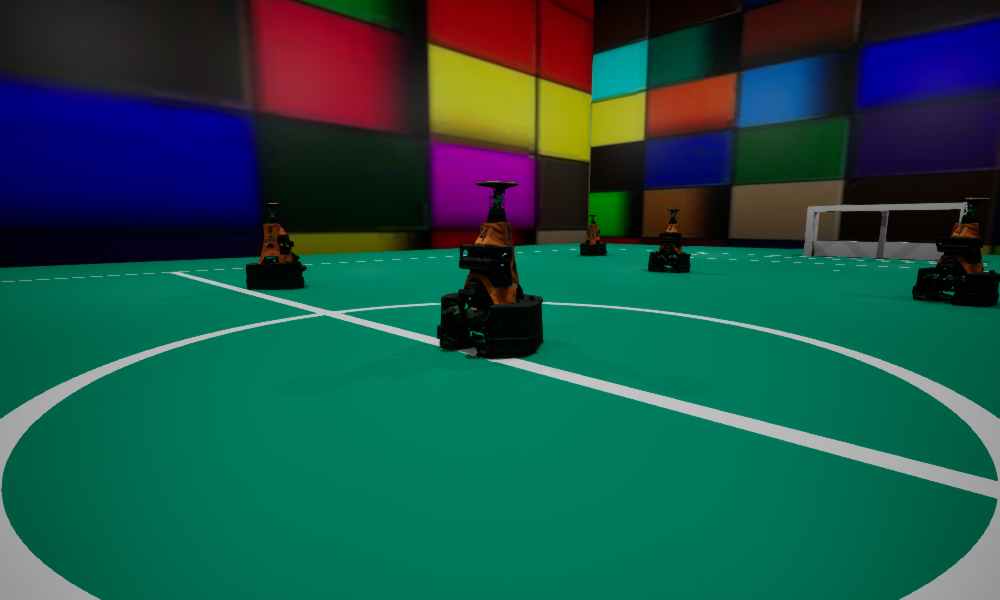0 orange robot TechUnited: (437, 181, 542, 357), (912, 198, 999, 305), (246, 203, 306, 289), (648, 209, 690, 272), (580, 215, 606, 255)
